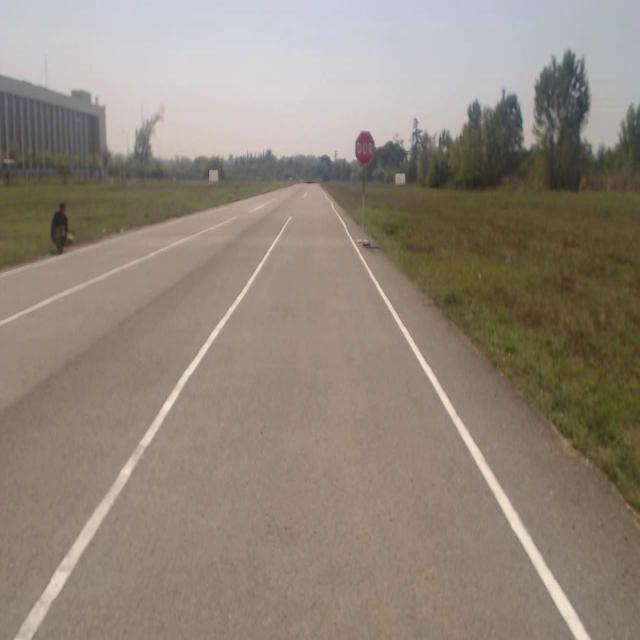dur: (356, 132, 374, 164)
